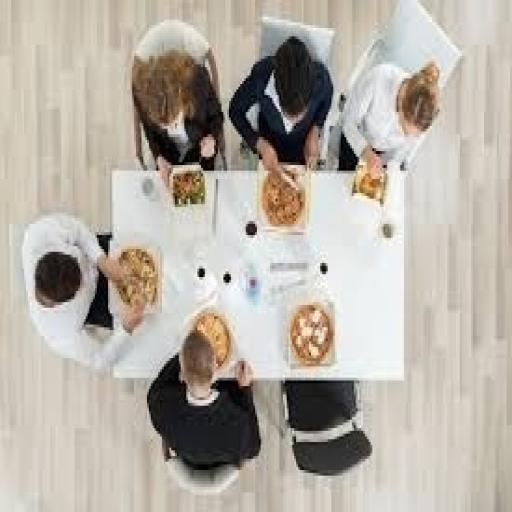eating: (145, 310, 263, 473), (227, 34, 335, 184)
